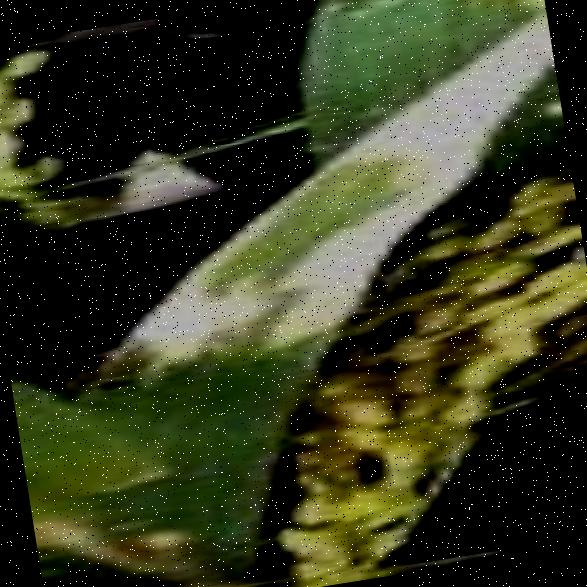Bacteria_Leaf_Blight: (77, 100, 453, 572)
